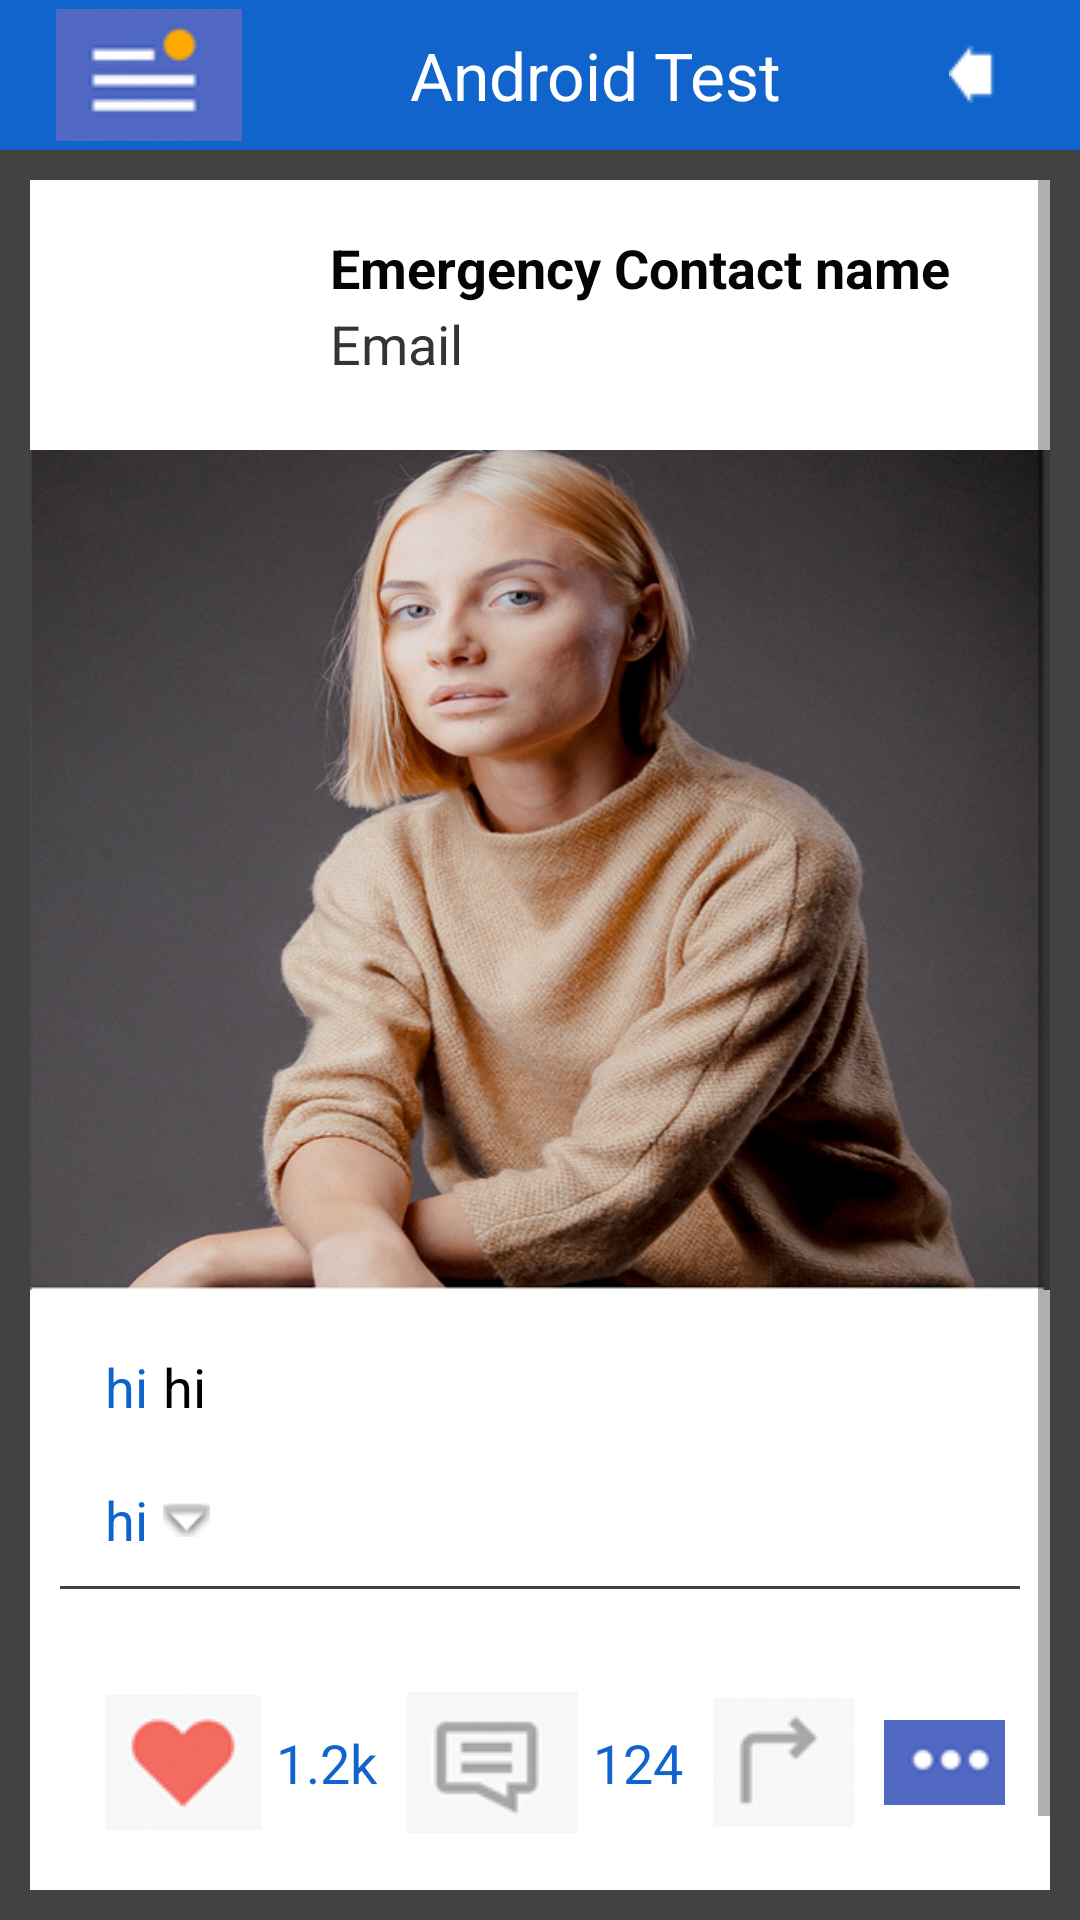

Where icons sit on this 1080px x 1920px app screen, as bbox=[x1, y1, x2, y2]:
arrow down float: bbox=[163, 1504, 210, 1536]
back: bbox=[949, 46, 994, 103]
chat: bbox=[435, 1721, 538, 1813]
feed like: bbox=[131, 1719, 235, 1807]
feedreturn: bbox=[740, 1717, 817, 1804]
slide navigation: bbox=[56, 9, 242, 141]
threedots: bbox=[884, 1720, 1005, 1805]
